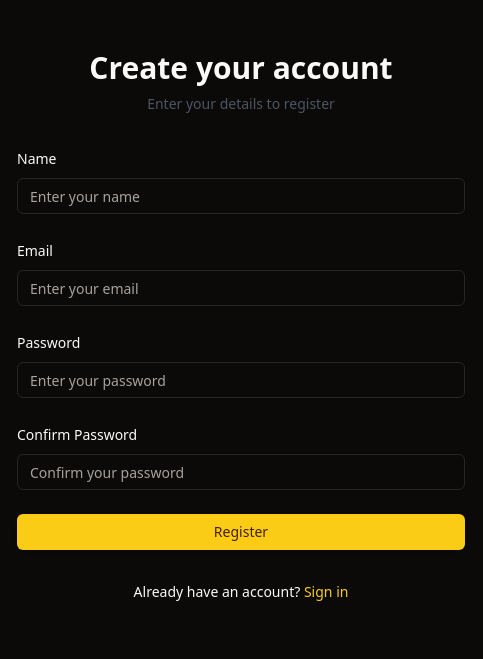
Test: RegisterPage Unit Tests › validates form inputs
Click the button "Register" at (241, 532), box [17,514,465,550]
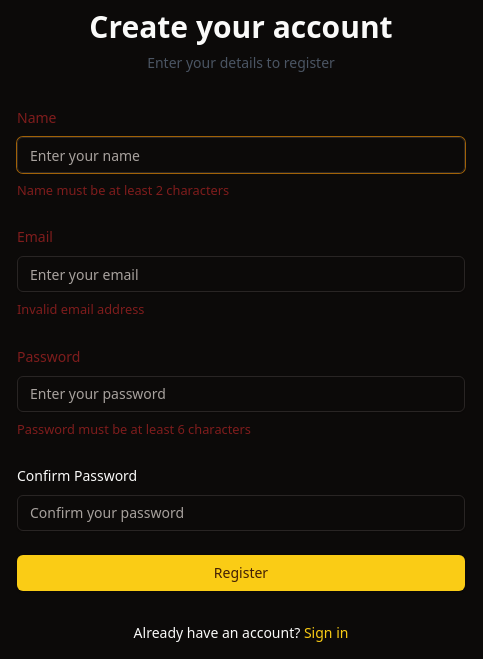
Check: the text "Name must be at least 2 characters" is shown, box [17,181,229,199]
Check: the text "Invalid email address" is shown, box [17,300,144,318]
Check: the text "Password must be at least 6 characters" is shown, box [17,420,251,438]
